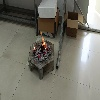fire: (41, 32, 46, 49), (33, 47, 35, 51)
